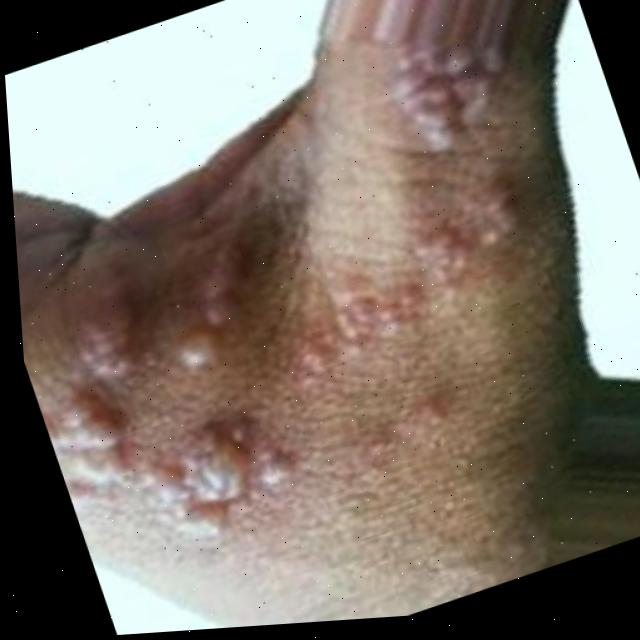Shingles: (239, 165, 563, 396), (32, 324, 310, 581), (368, 9, 529, 167), (140, 227, 288, 382), (45, 256, 166, 392)
